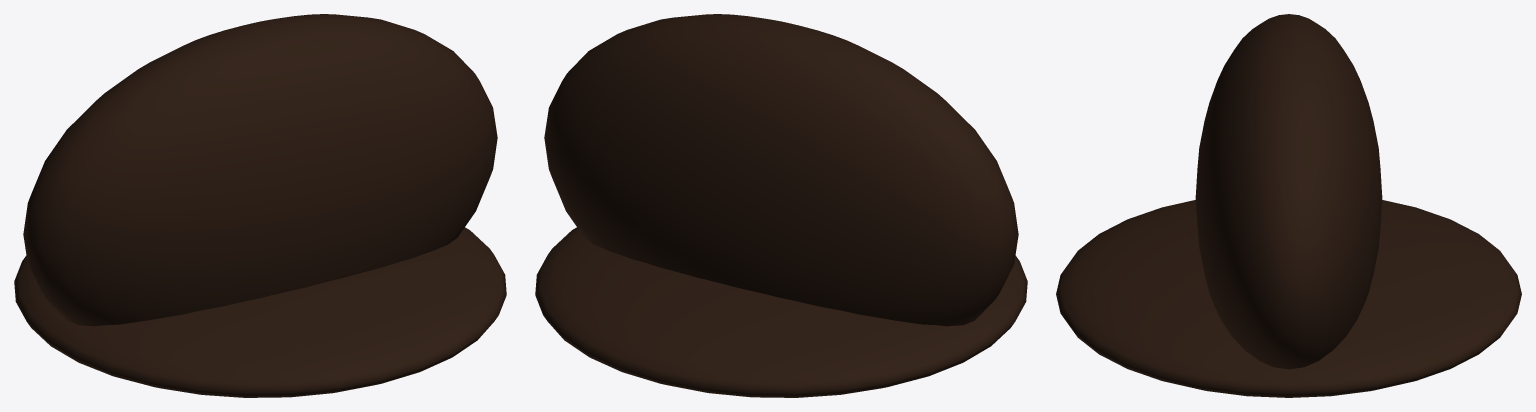
The model's file is hair_short.glb.
3 renders of one model, left to right at view 1: azimuth 30°, elevation 25°; view 2: azimuth 150°, elevation 25°; view 3: azimuth 270°, elevation 25°, orthographic. The views are drawn at different scales.
Visible parts, largest first — view 1: hair_short; view 2: hair_short; view 3: hair_short.
Boxes of the visible parts, x1=… form: hair_short: x1=14, y1=14, x2=506, y2=397; hair_short: x1=535, y1=14, x2=1027, y2=397; hair_short: x1=1056, y1=14, x2=1521, y2=397.
Bounding box in the file's own units: 8.54 × 5.57 × 7.86.
